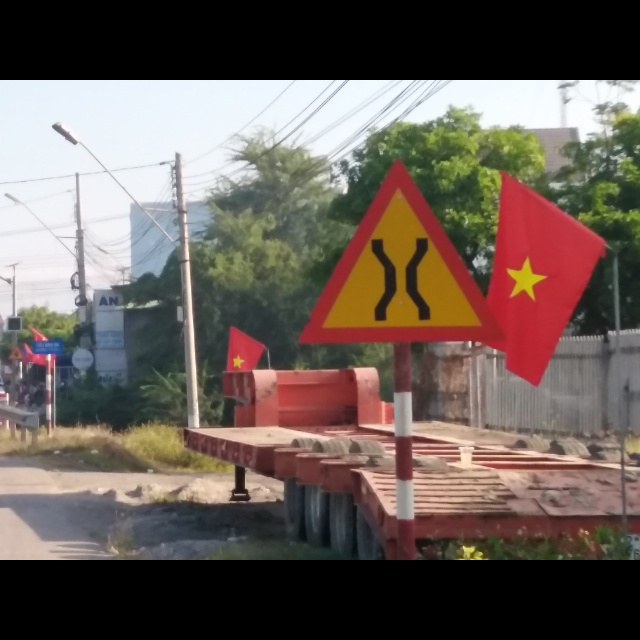Cầu hẹp: (294, 153, 509, 350)
